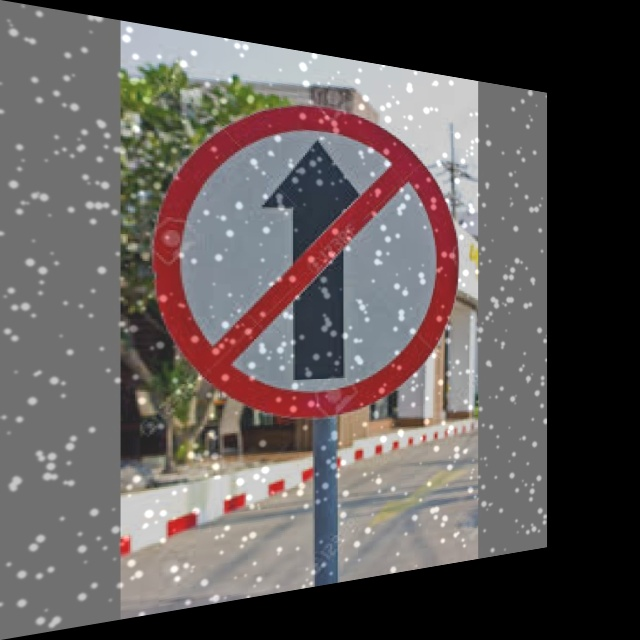No_Entry: (160, 88, 461, 424)
